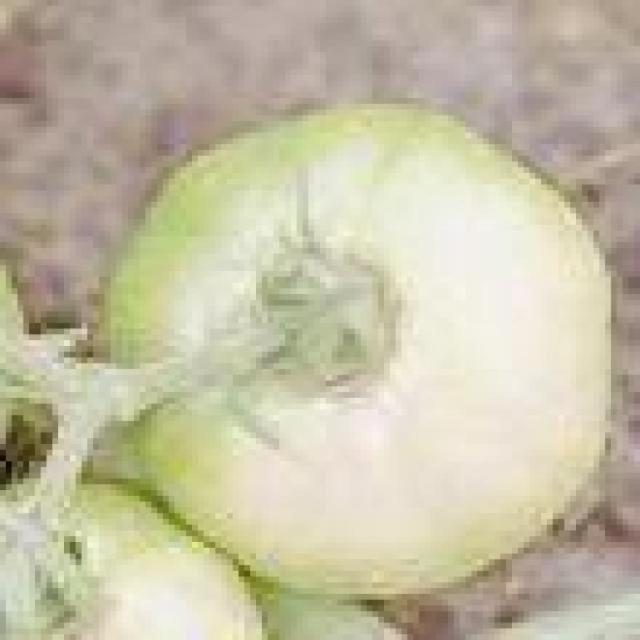Sunscald Fruit: (103, 69, 252, 388)
